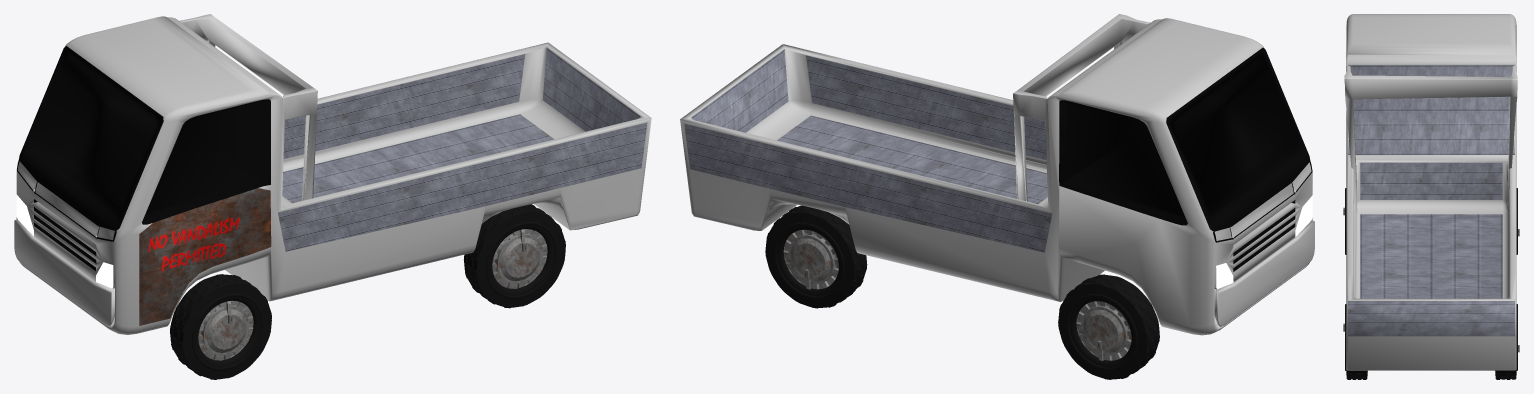
File: nicer truck.gltf
3 views of the same model, side by side, from view 1: azimuth 30°, elevation 25°; view 2: azimuth 150°, elevation 25°; view 3: azimuth 270°, elevation 25° (orthographic). The views are drawn at different scales.
Parts seen in each view (by area): view 1: Cube, wheel, wheel.002; view 2: Cube, wheel.001, wheel.003; view 3: Cube, wheel.002, wheel.003.
Boxes of the visible parts, left/top/right/bottom form: Cube: left=14, top=14, right=651, bottom=334; wheel: left=170, top=274, right=271, bottom=379; wheel.002: left=464, top=204, right=565, bottom=308; Cube: left=680, top=14, right=1314, bottom=335; wheel.001: left=1058, top=274, right=1159, bottom=379; wheel.003: left=765, top=205, right=867, bottom=308; Cube: left=1344, top=14, right=1517, bottom=370; wheel.002: left=1343, top=304, right=1367, bottom=379; wheel.003: left=1495, top=304, right=1519, bottom=379.
Size of what is drawn, in the model's own units: 5.01 by 2.49 by 1.76.
